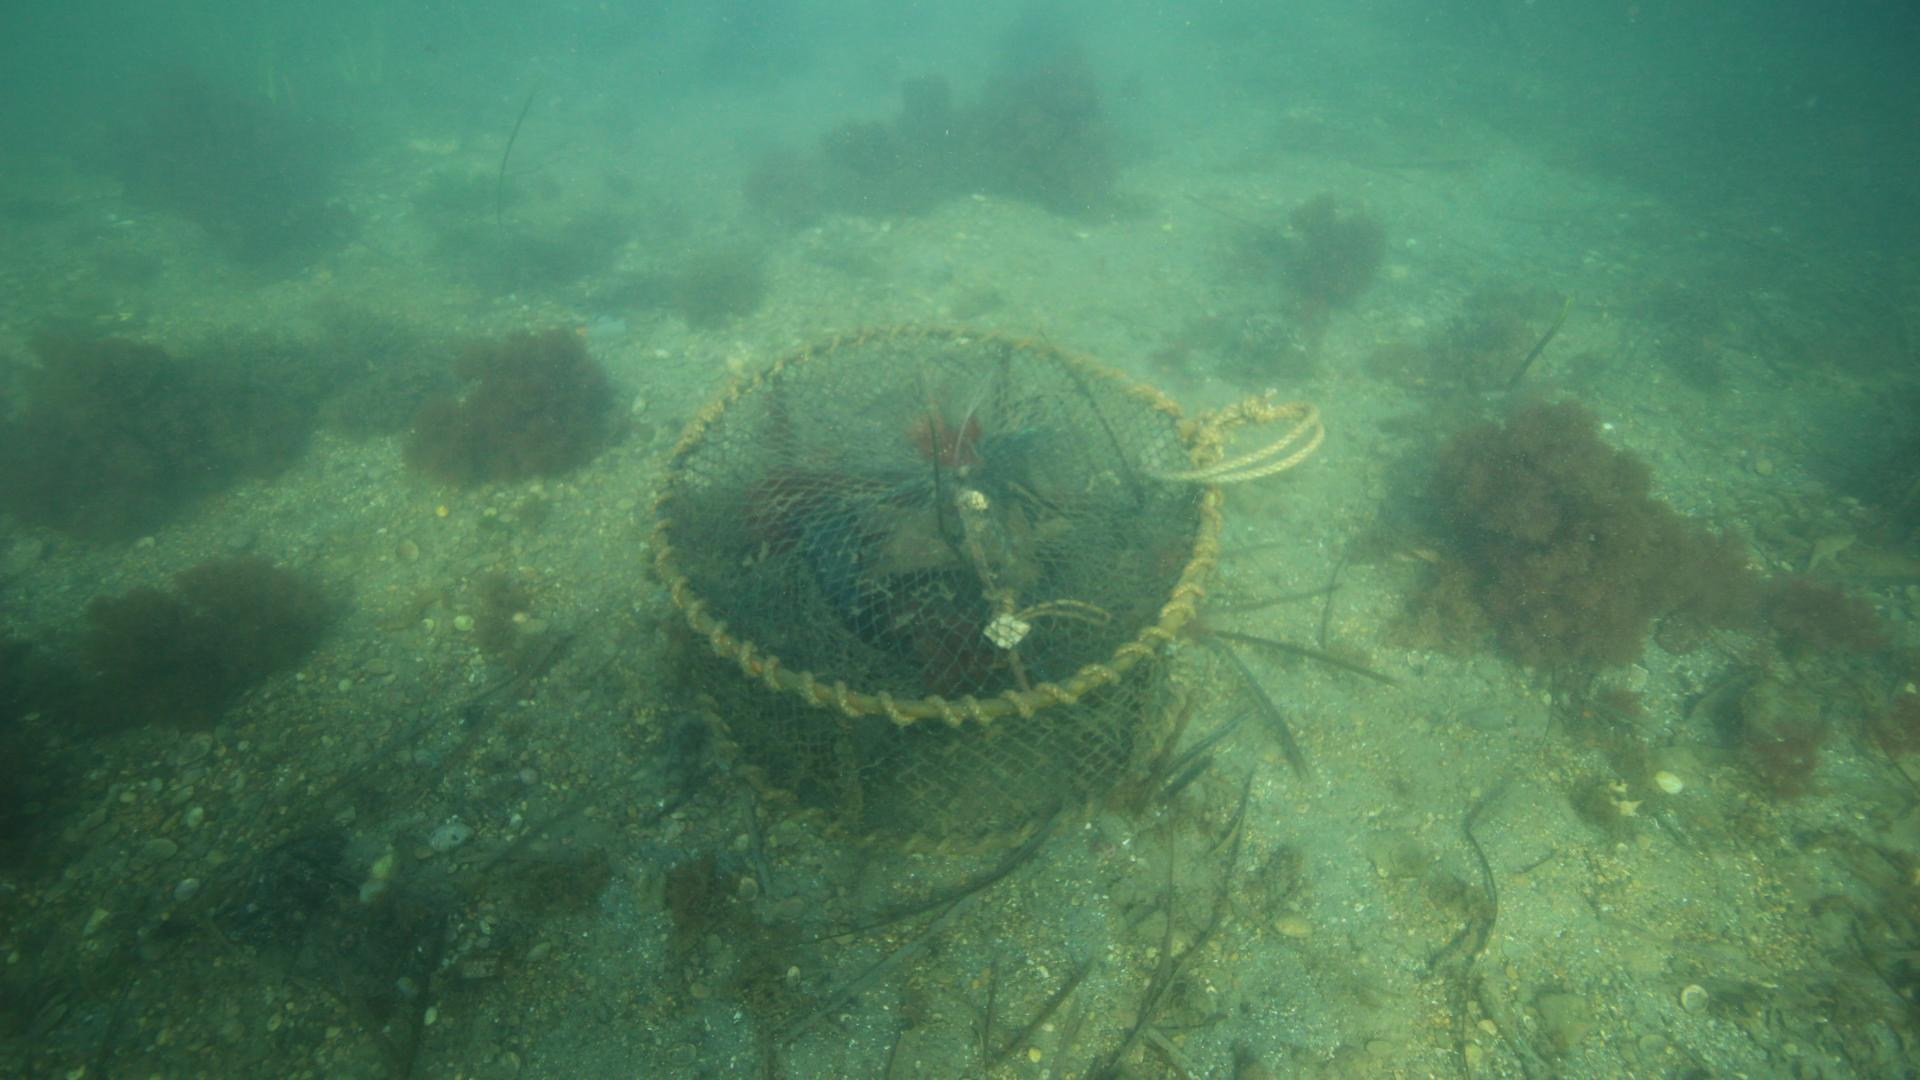bundle of ropes: (1159, 398, 1329, 487)
circular fish trap: (647, 316, 1224, 855)
